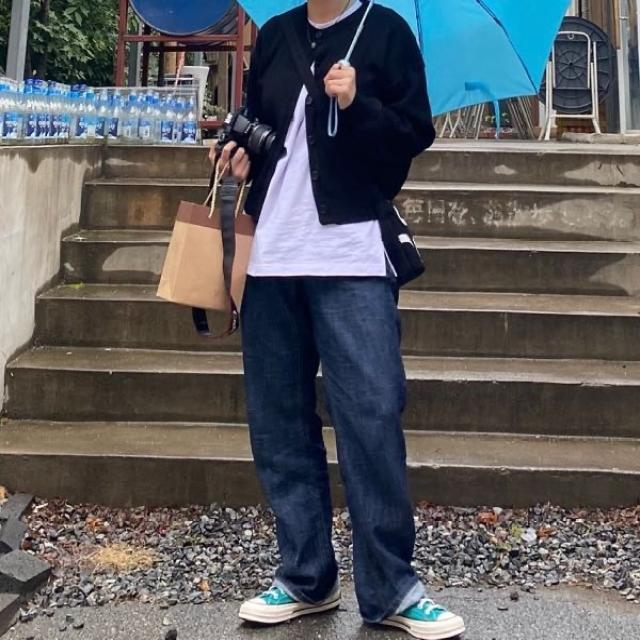denimpants: (236, 269, 429, 627)
jacket: (233, 0, 433, 219)
